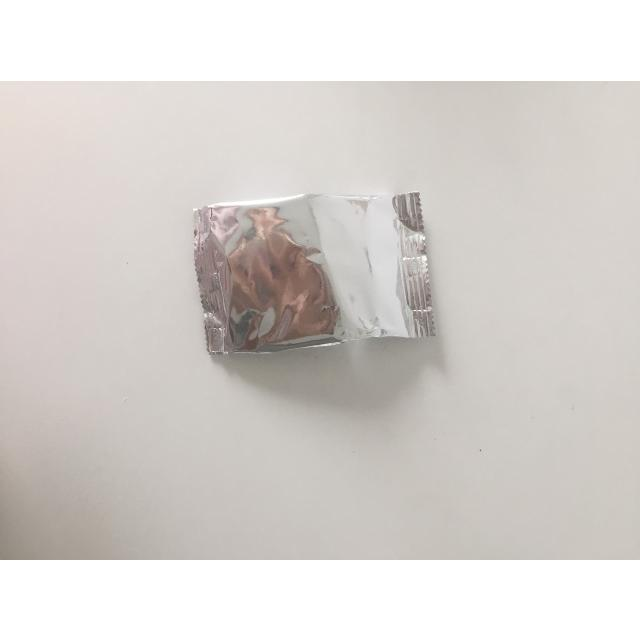Paquete de plastico: (195, 188, 432, 357)
